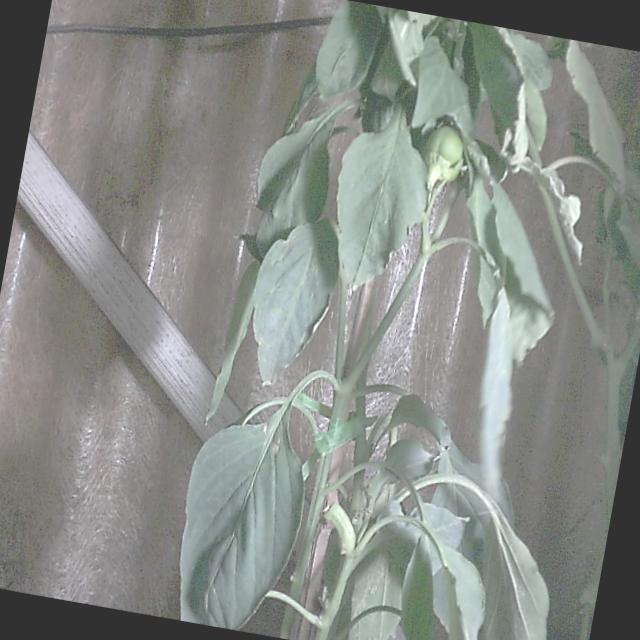Leaf: (180, 424, 304, 629), (337, 110, 426, 288), (253, 219, 338, 383), (206, 260, 259, 421), (566, 40, 625, 184), (316, 0, 381, 98), (411, 36, 469, 128)
